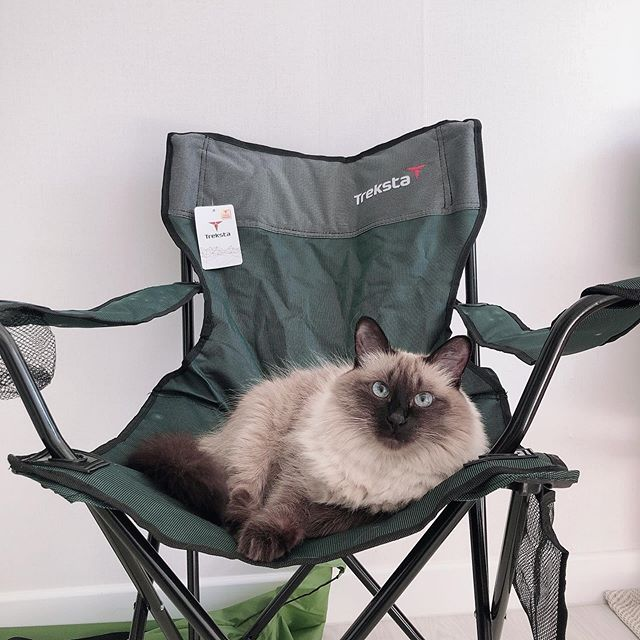cat: (334, 314, 491, 449)
